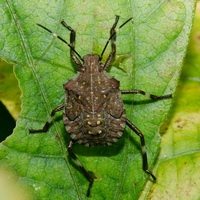insect: (29, 15, 171, 195)
